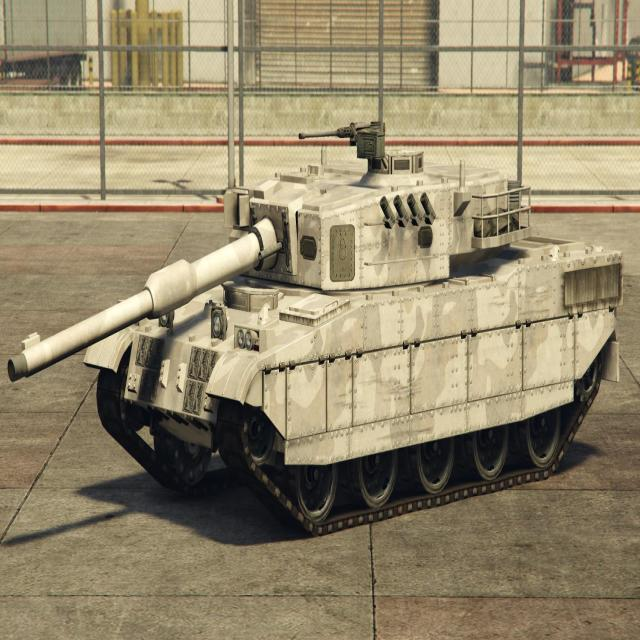Tanks: (34, 117, 620, 553)
